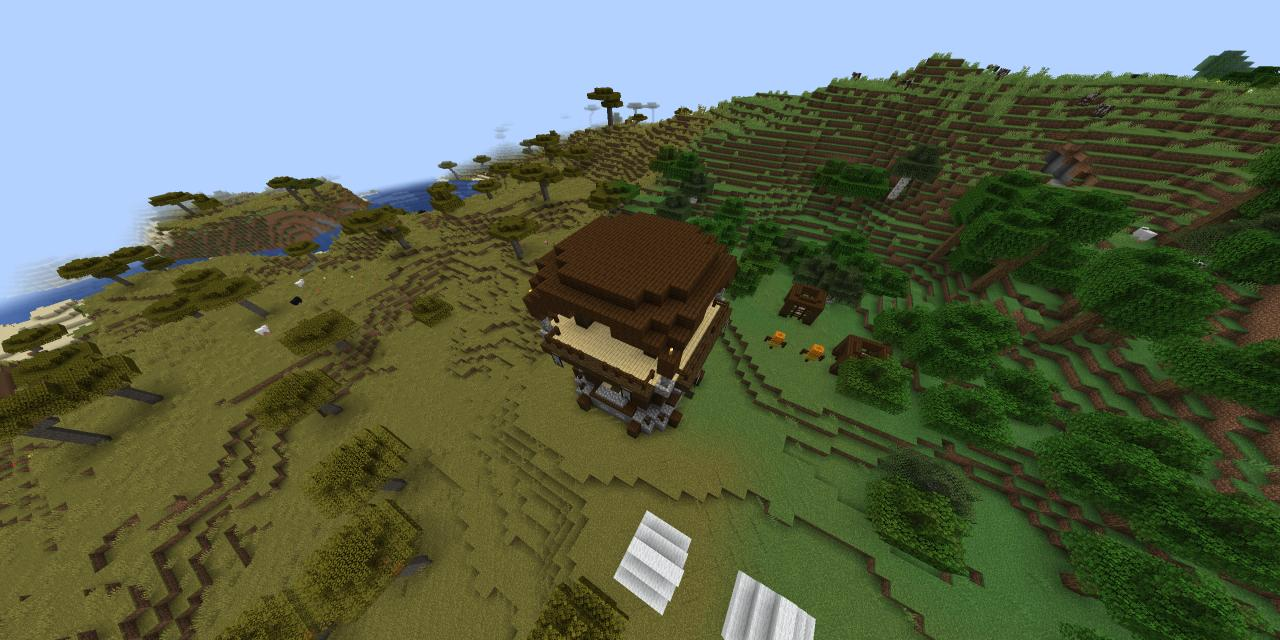pillager outpost: (518, 199, 760, 462)
